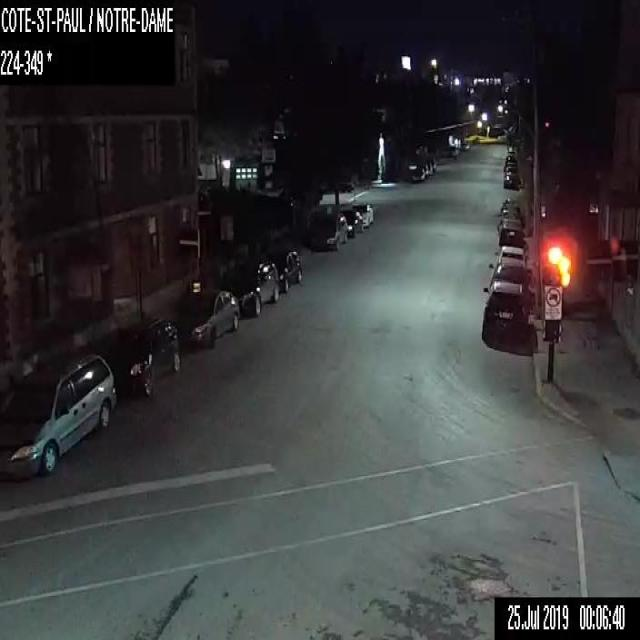vehicle: (0, 353, 114, 484), (98, 313, 179, 392), (179, 290, 238, 348), (481, 280, 526, 344), (230, 262, 278, 314), (309, 212, 347, 252), (268, 250, 301, 290), (488, 261, 532, 287), (496, 217, 523, 245), (493, 245, 527, 266), (343, 211, 362, 235), (352, 203, 372, 225), (500, 197, 523, 216), (408, 163, 424, 183), (502, 172, 517, 188), (502, 161, 516, 171), (430, 160, 436, 172), (422, 164, 427, 178), (427, 160, 431, 174)
